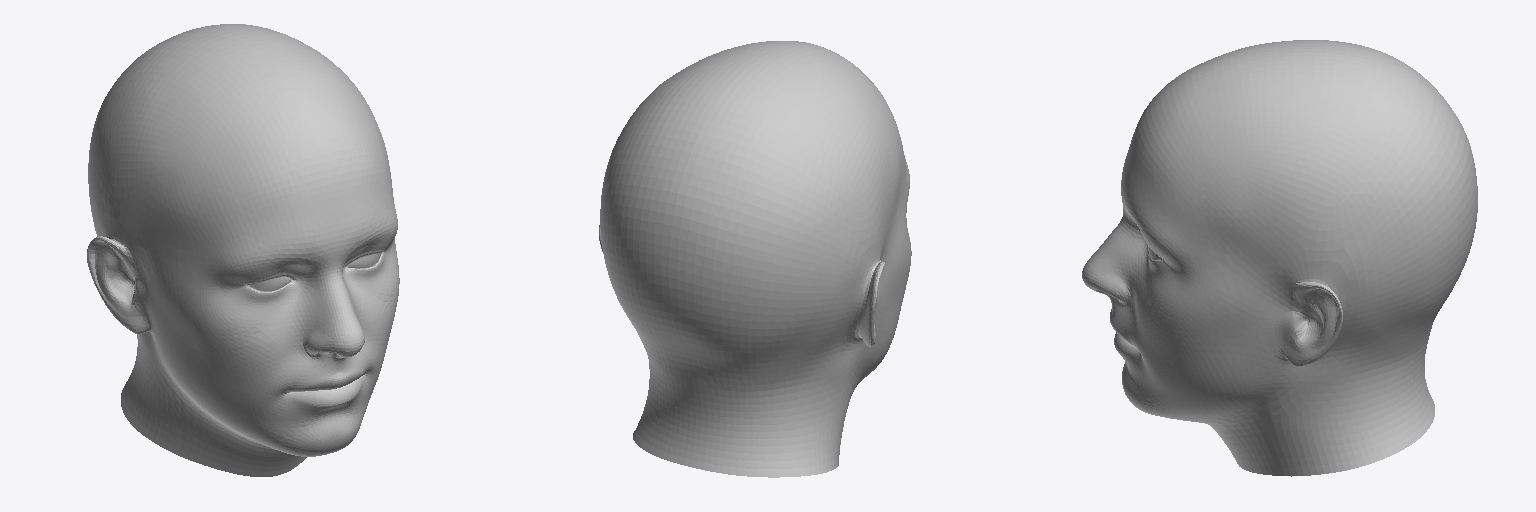
The model's file is end.obj.
The picture shows the model from 3 angles: view 1: azimuth 30°, elevation 25°; view 2: azimuth 150°, elevation 25°; view 3: azimuth 270°, elevation 25°; orthographic projection.
Parts seen in each view (by area): view 1: FaceBuilderHead_FaceBuilderHead_mesh.001, FaceBuilderHead_FaceBuilderHead_mesh; view 2: FaceBuilderHead_FaceBuilderHead_mesh, FaceBuilderHead_FaceBuilderHead_mesh.001; view 3: FaceBuilderHead_FaceBuilderHead_mesh, FaceBuilderHead_FaceBuilderHead_mesh.001.
Part boxes in pixels (x1,y1,x2,y2): FaceBuilderHead_FaceBuilderHead_mesh.001: (132,142,399,456); FaceBuilderHead_FaceBuilderHead_mesh: (87,24,386,476); FaceBuilderHead_FaceBuilderHead_mesh: (599,41,899,477); FaceBuilderHead_FaceBuilderHead_mesh.001: (853,92,911,391); FaceBuilderHead_FaceBuilderHead_mesh: (1155,40,1477,476); FaceBuilderHead_FaceBuilderHead_mesh.001: (1082,95,1292,426).
Size of the model in its own units: 1.8 by 2.51 by 2.22.